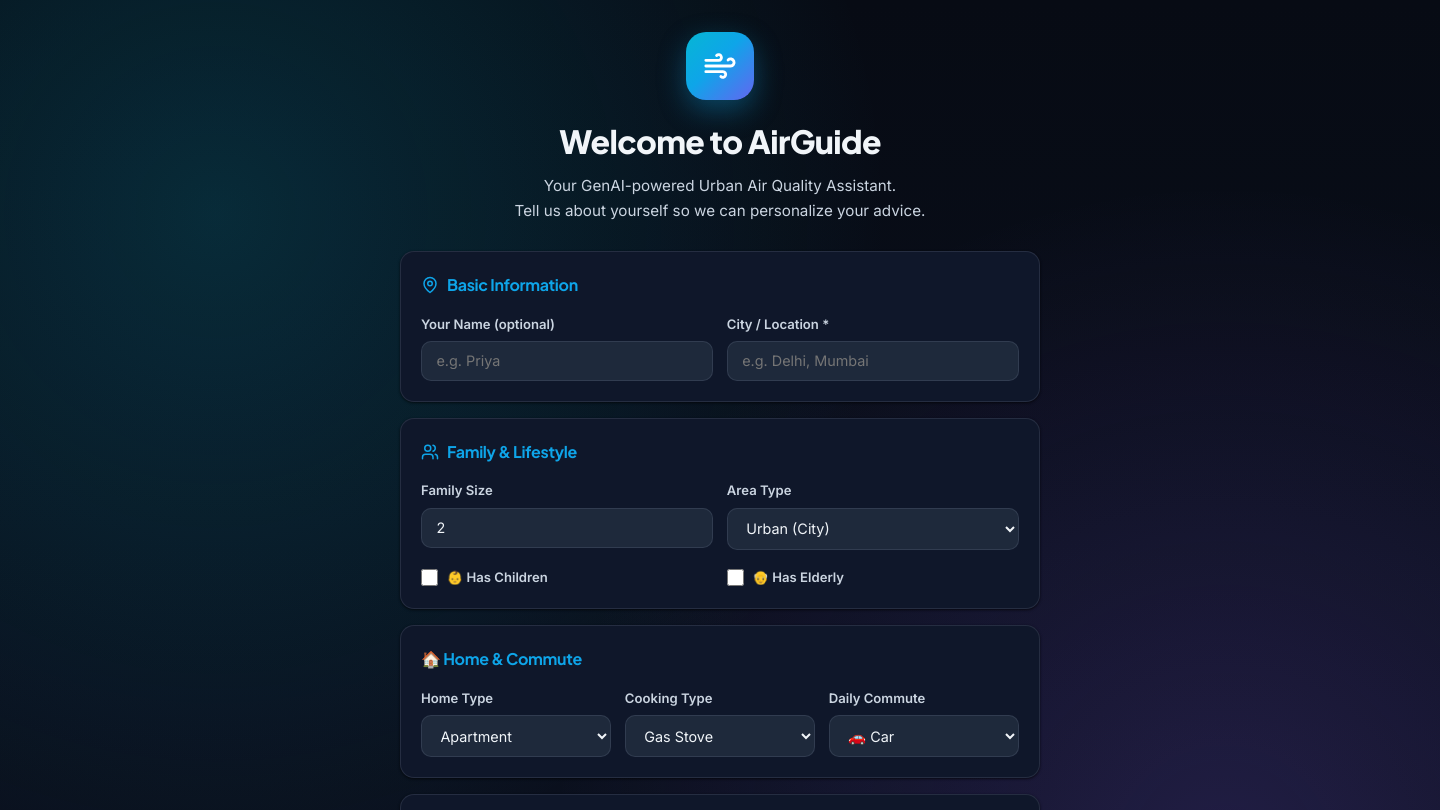
Test: App › renders ProfileSetup initially and transitions to Dashboard on save
expect the heading "Welcome to AirGuide" is shown: met, box [559, 121, 881, 161]
Type "Delhi" into the field labelled "City / Location *" at (873, 361), box [727, 341, 1019, 381]
(page scrolled)
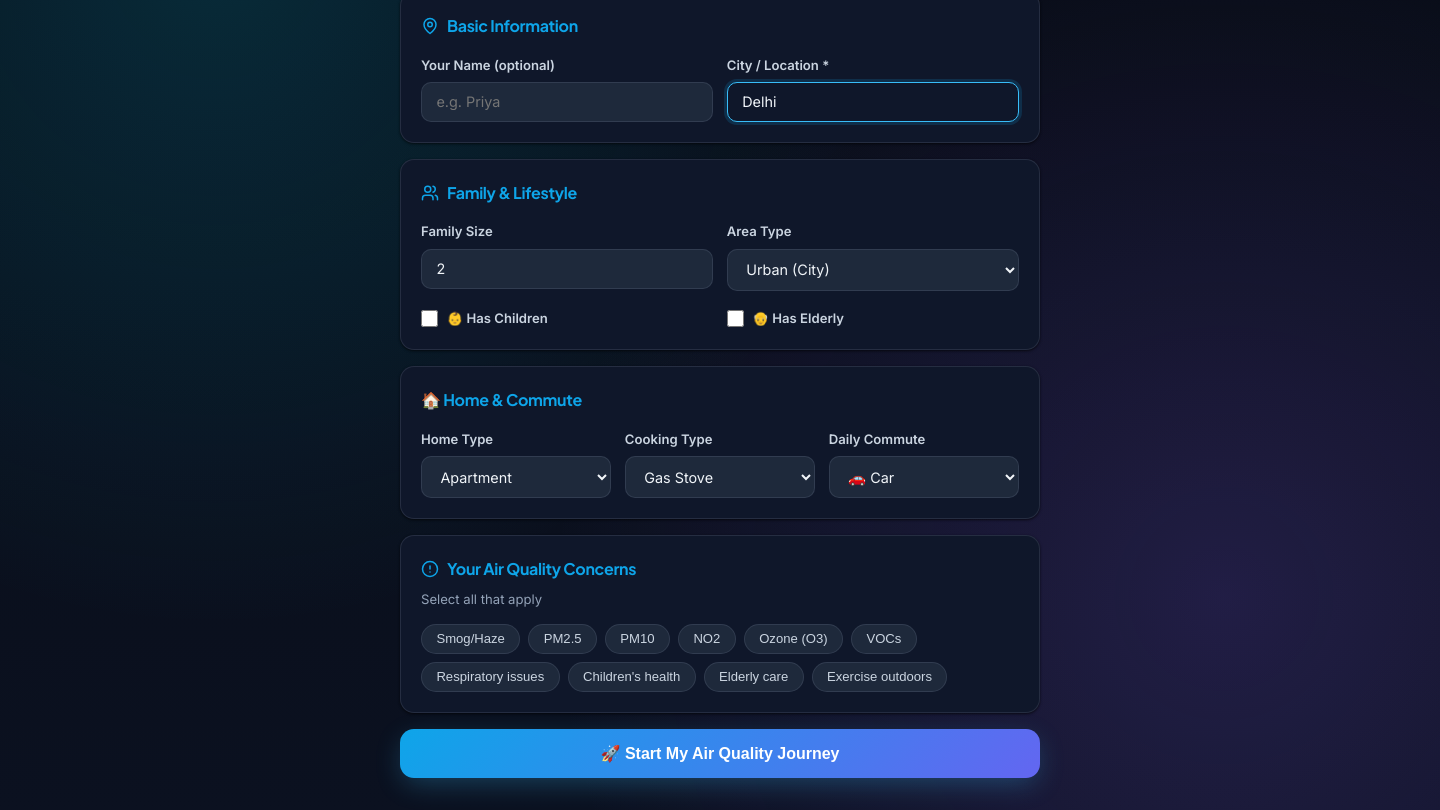
Click the button "🚀 Start My Air Quality Journey" at (720, 753), box [400, 729, 1040, 778]
(page scrolled)
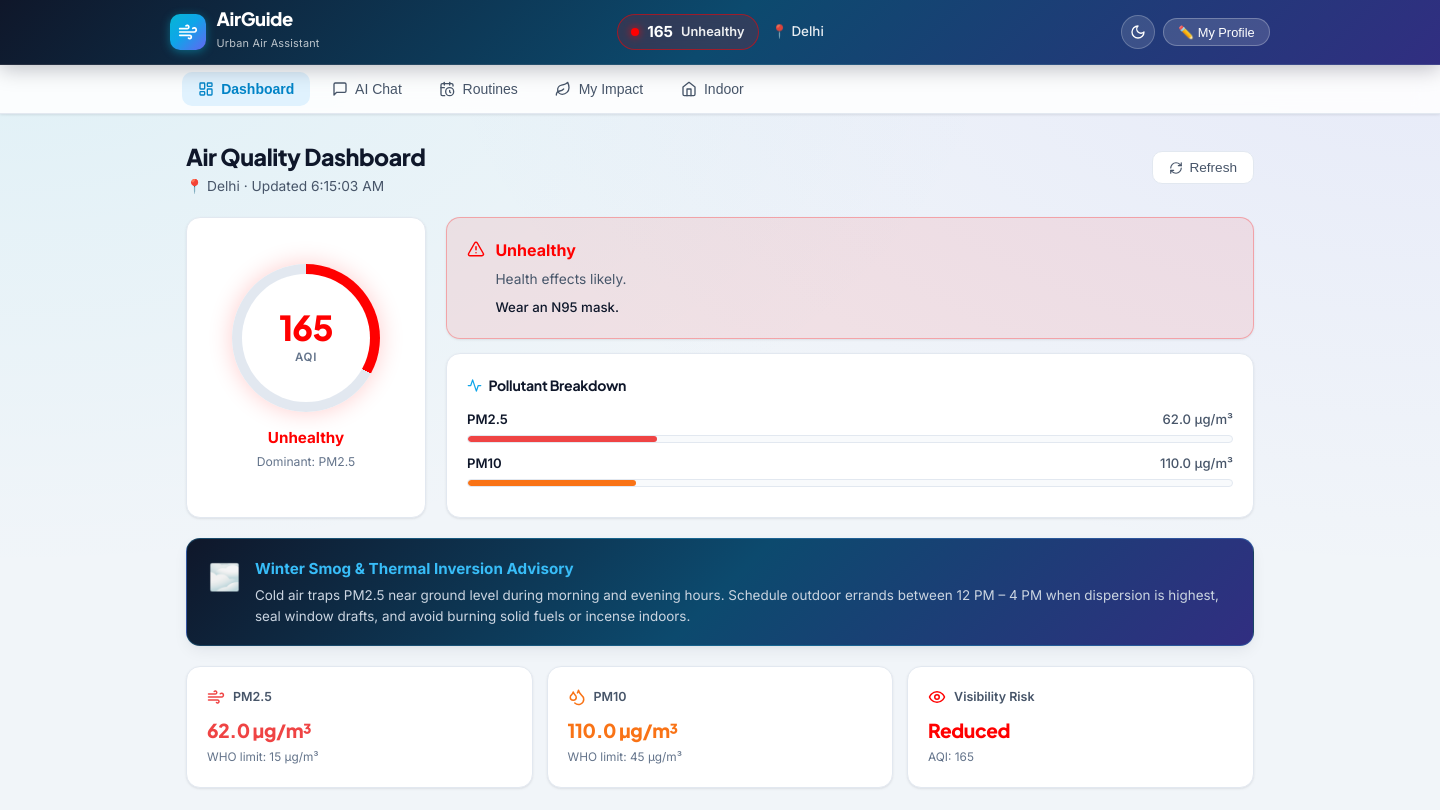
expect the heading "Air Quality Dashboard" is shown: met, box [186, 138, 425, 175]
